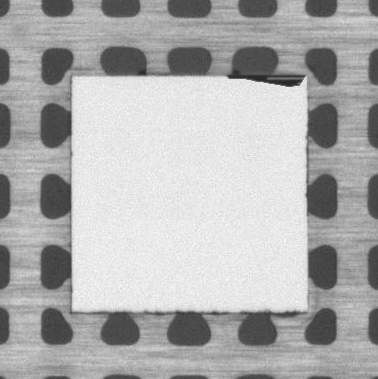DIE_BROKEN: (228, 73, 307, 87)
